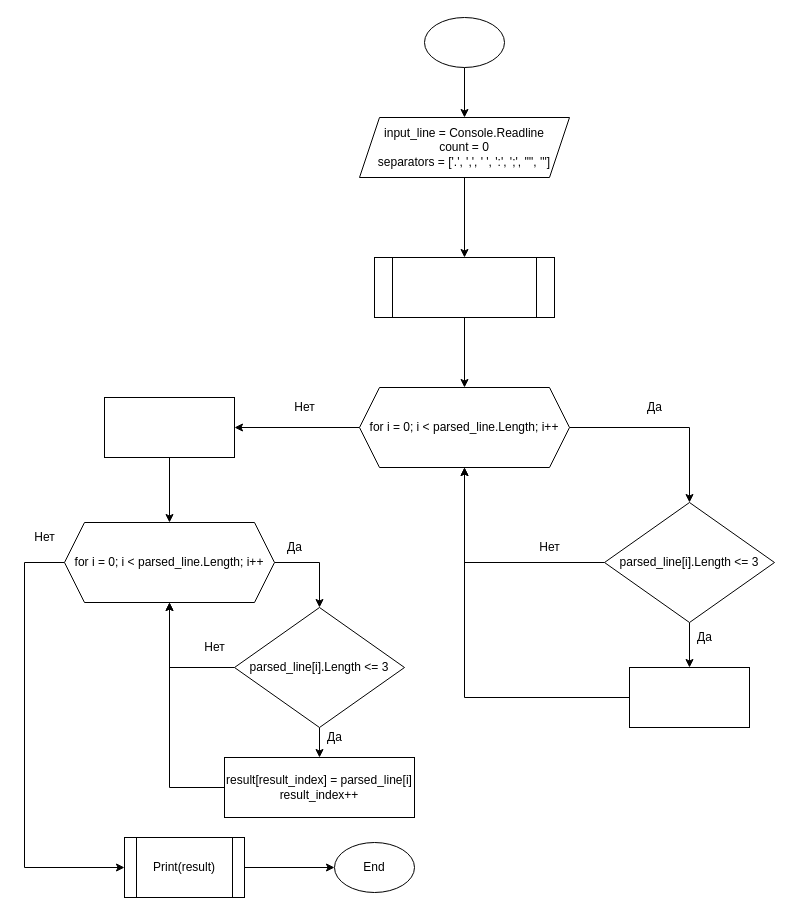
The diagram is 792 pixels wide and 915 high, and some of its shapes have lost their labels. The shapes that lost their labels are listed below. From the top down, each one's centre as x and y in pixels, then its label:
point 464,42: Start
point 464,287: Split(input_line, separators) -> parsed_line
point 169,427: result = new str[count] result_index = 0
point 689,697: count++
